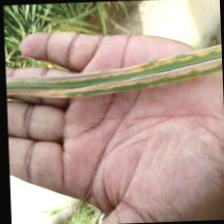Leaf_Blast: (8, 43, 224, 96)
